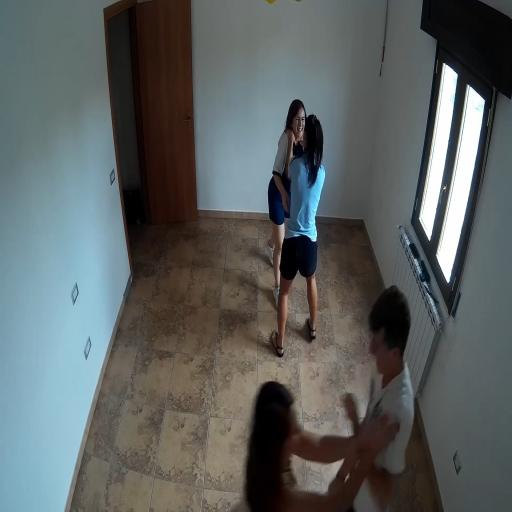violencia: (236, 273, 442, 512), (256, 88, 337, 360)
